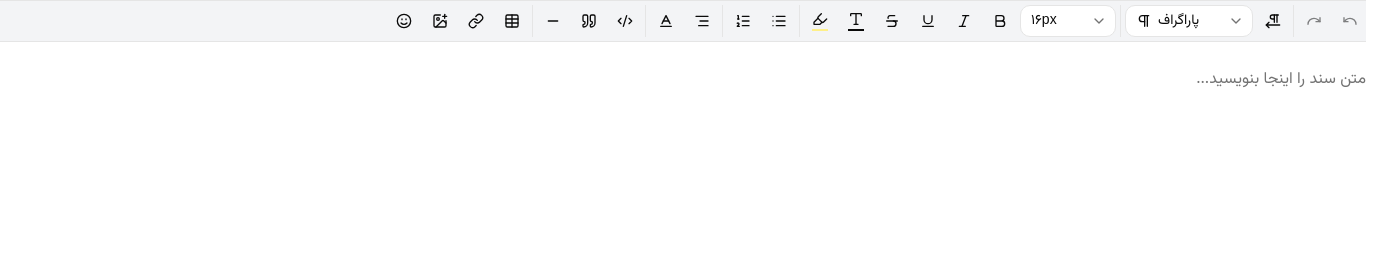
Scenario: DocumentBodyEditor › opens the code menu with the same languages as the reference editor
Click the button named "کد".
click(625, 21)  # box [609, 5, 641, 37]
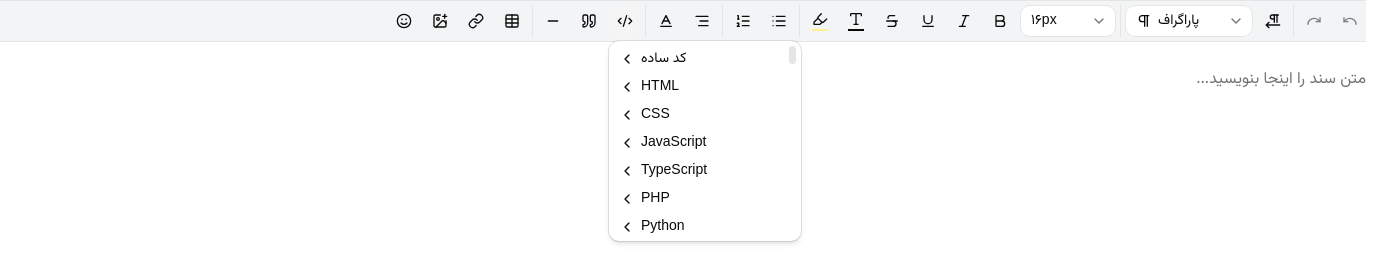
Expected: the element that starts with "کد ساده" is shown, [619, 49, 707, 237]
